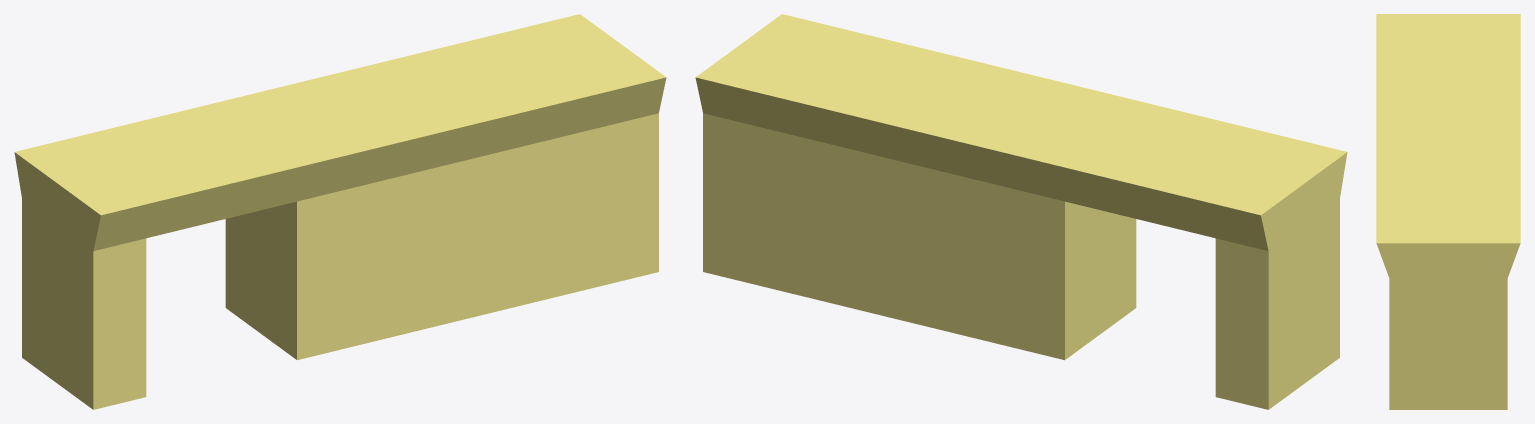
The model's file is Pathway01.fbx.
3 renders of one model, left to right at view 1: azimuth 30°, elevation 25°; view 2: azimuth 150°, elevation 25°; view 3: azimuth 270°, elevation 25°, orthographic. The views are drawn at different scales.
Parts seen in each view (by area): view 1: Base Floor; view 2: Base Floor; view 3: Base Floor.
Boxes of the visible parts, x1,y1,x2,y2 form: Base Floor: [14, 14, 666, 409]; Base Floor: [695, 14, 1347, 409]; Base Floor: [1376, 14, 1520, 409].
Bounding box in the file's own units: 2837 × 960 × 753.
